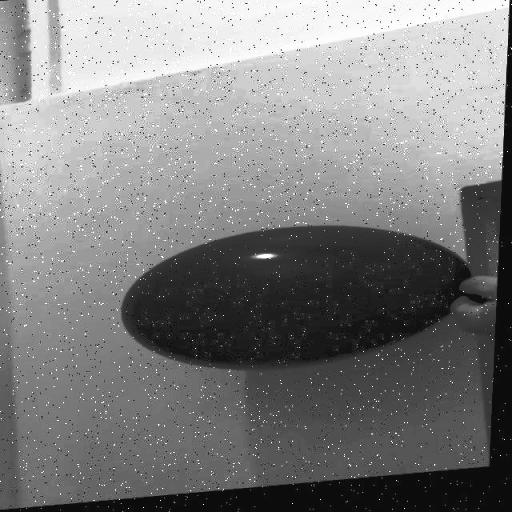balloon: (110, 215, 480, 397)
